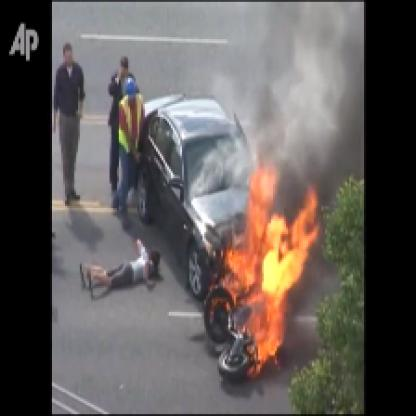Fire: (202, 162, 318, 382)
Smoke: (249, 2, 362, 176)
